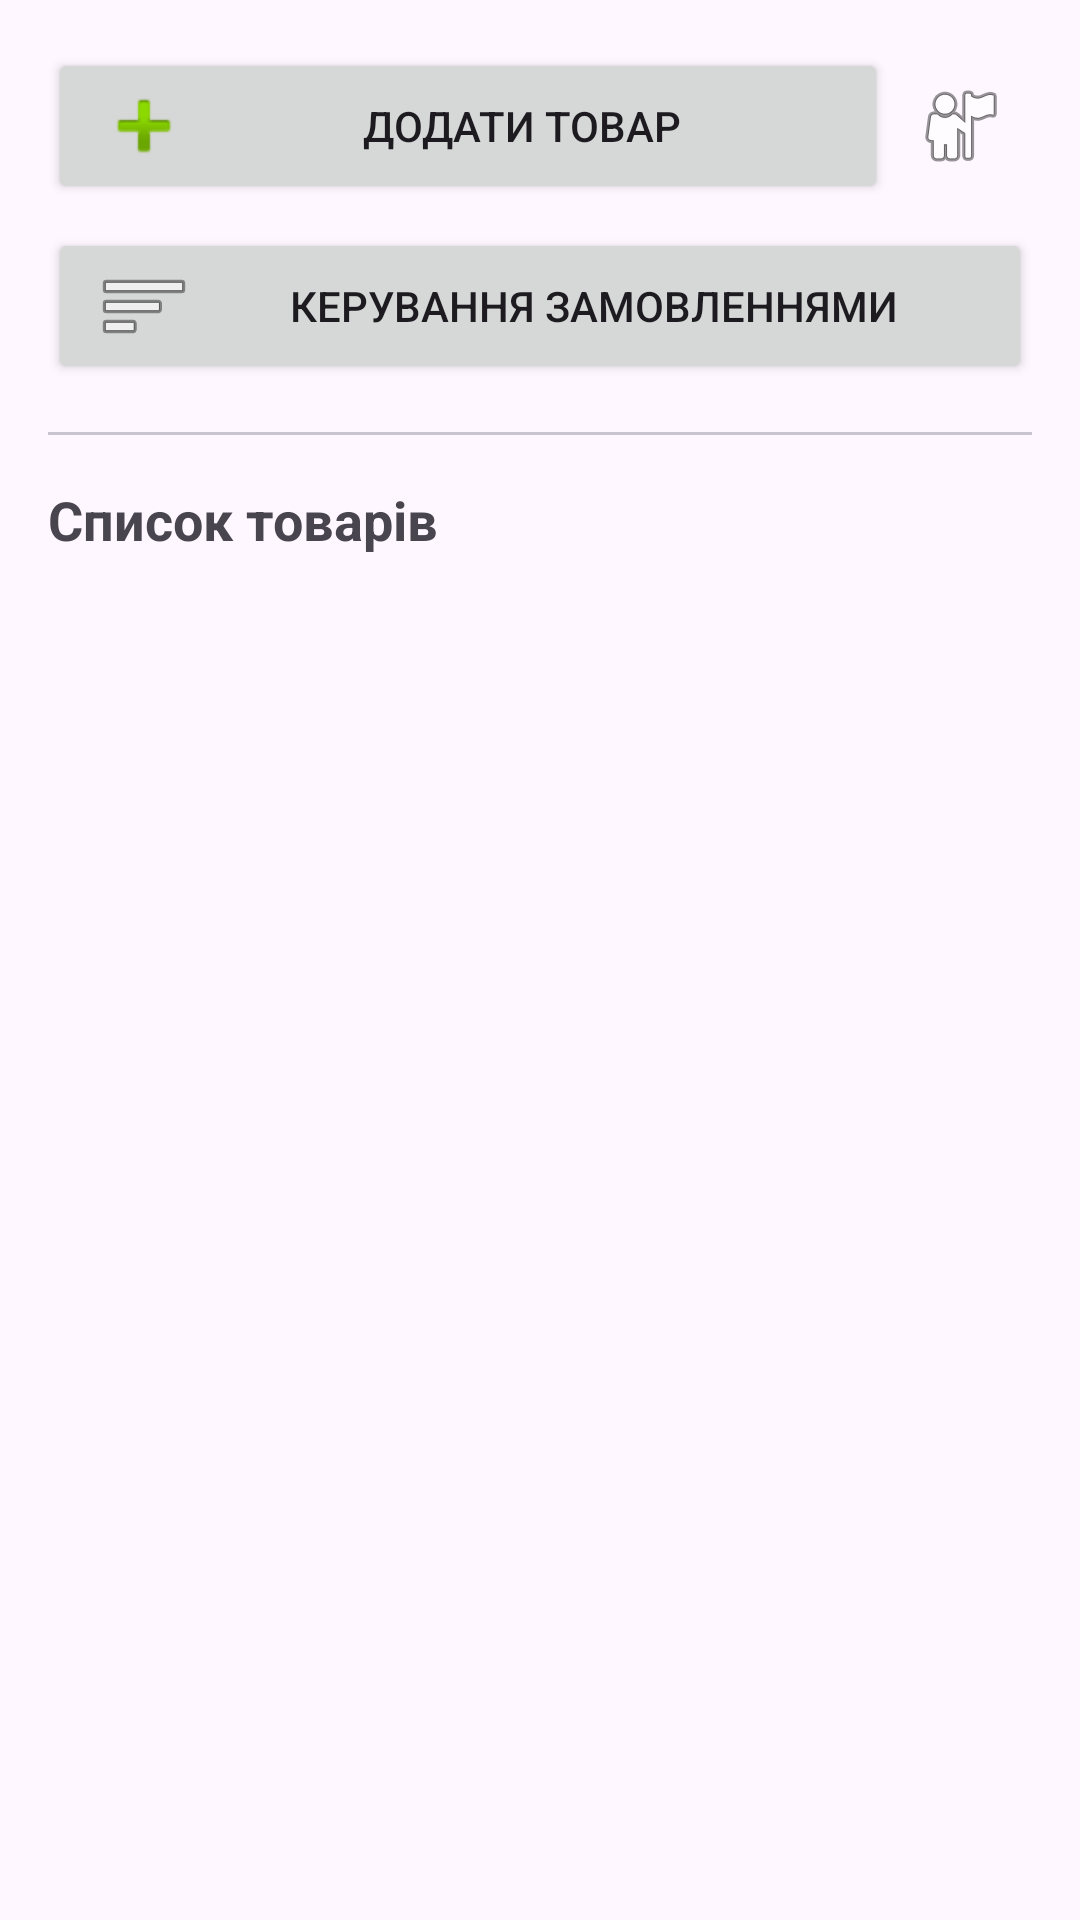

Icons on this 1080*1920 Android screen, each with the point to tap as point (x, y):
Профіль: point (961, 126)
